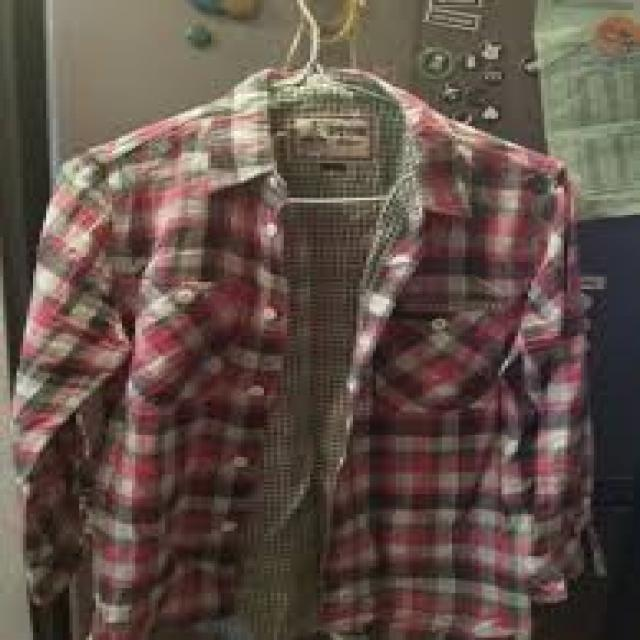plaid: (21, 67, 608, 633)
